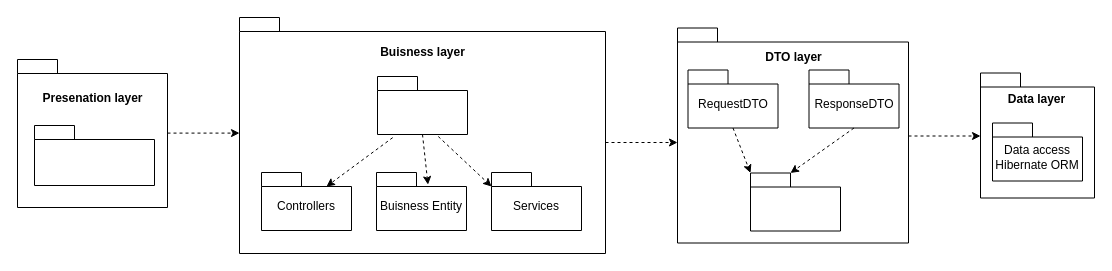
The diagram is 1112 pixels wide and 271 high, and some of its shapes have lost their labels. The shapes that lost their labels are listed below. From the top down, each one's box as (x1, y1, x2, y2) in pixels, then its label:
(376, 76, 468, 134): Application Springboot
(34, 124, 154, 186): User interface React.js
(750, 172, 840, 231): JPA Repository
